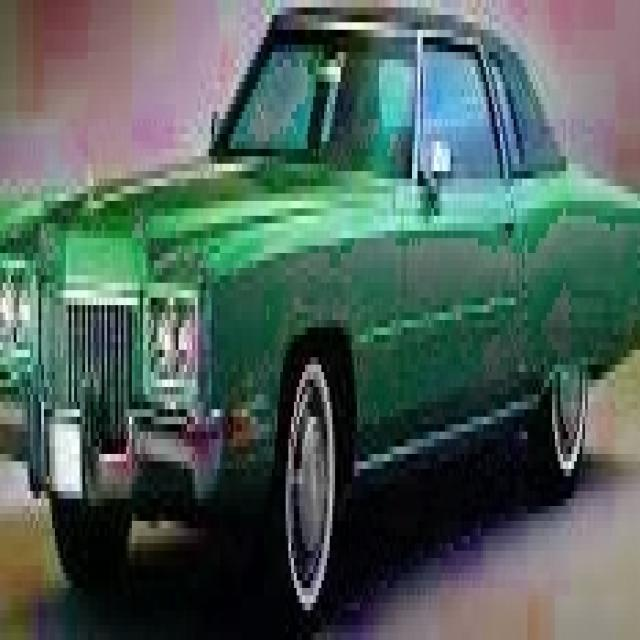green: (0, 0, 640, 618)
